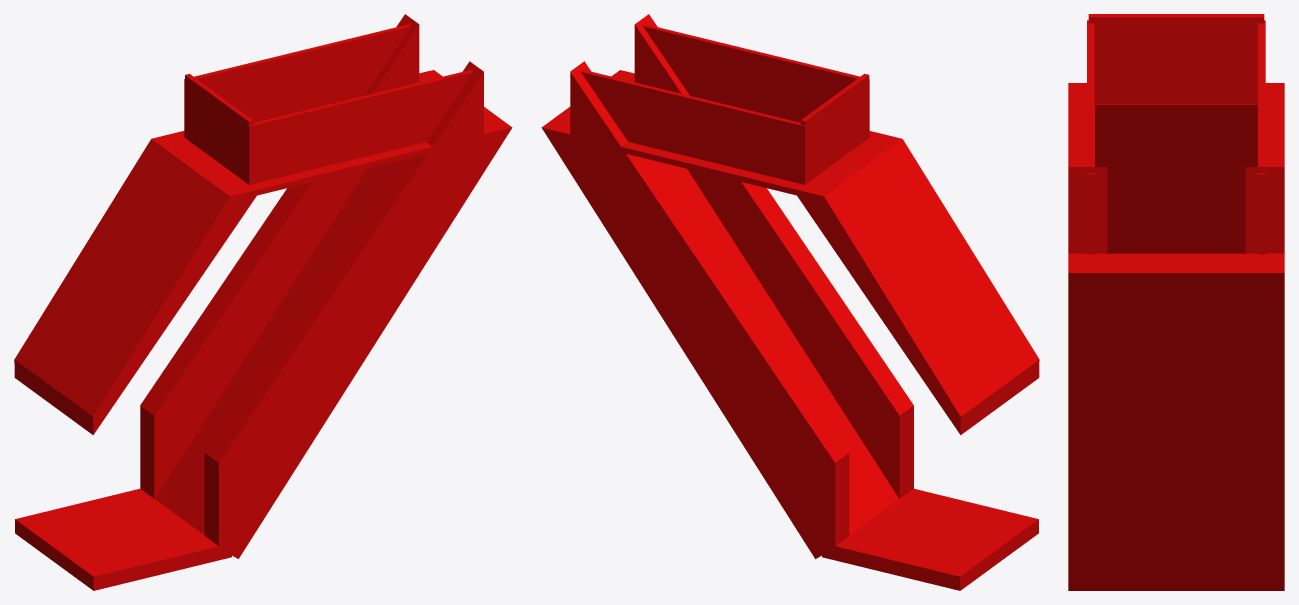
The model's file is SM_Bld_Bunker_Stairs_Double_01_Collision.fbx.
3 views of the same model, side by side, from view 1: azimuth 30°, elevation 25°; view 2: azimuth 150°, elevation 25°; view 3: azimuth 270°, elevation 25° (orthographic). The views are drawn at different scales.
Parts seen in each view (by area): view 1: SM_Bld_Bunker_Stairs_Double_01_Collision; view 2: SM_Bld_Bunker_Stairs_Double_01_Collision; view 3: SM_Bld_Bunker_Stairs_Double_01_Collision.
Part boxes in pixels (<box>): SM_Bld_Bunker_Stairs_Double_01_Collision: <box>14,14,512,590</box>; SM_Bld_Bunker_Stairs_Double_01_Collision: <box>541,14,1039,590</box>; SM_Bld_Bunker_Stairs_Double_01_Collision: <box>1068,14,1284,590</box>.
Bounding box in the file's own units: 770 × 751 × 250.
